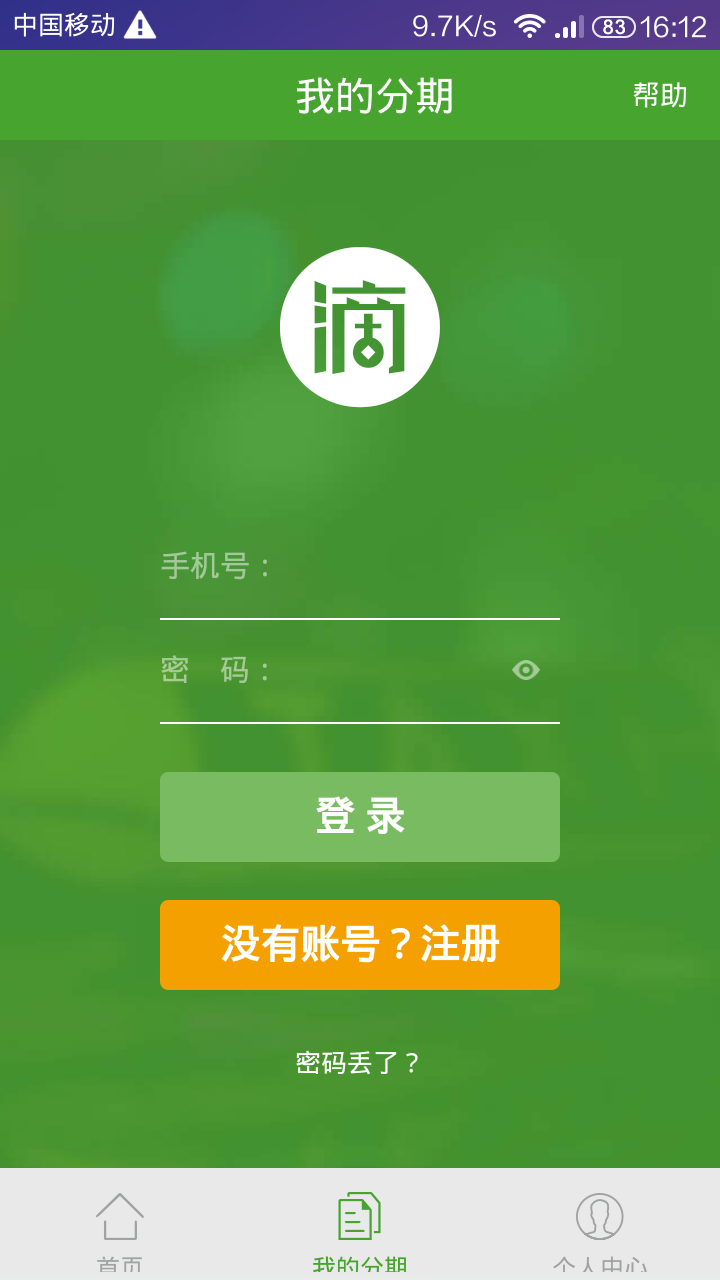button: (154, 887, 574, 1007), (155, 767, 568, 867)
nav: (1, 1163, 720, 1277)
textview: (152, 534, 574, 740)
